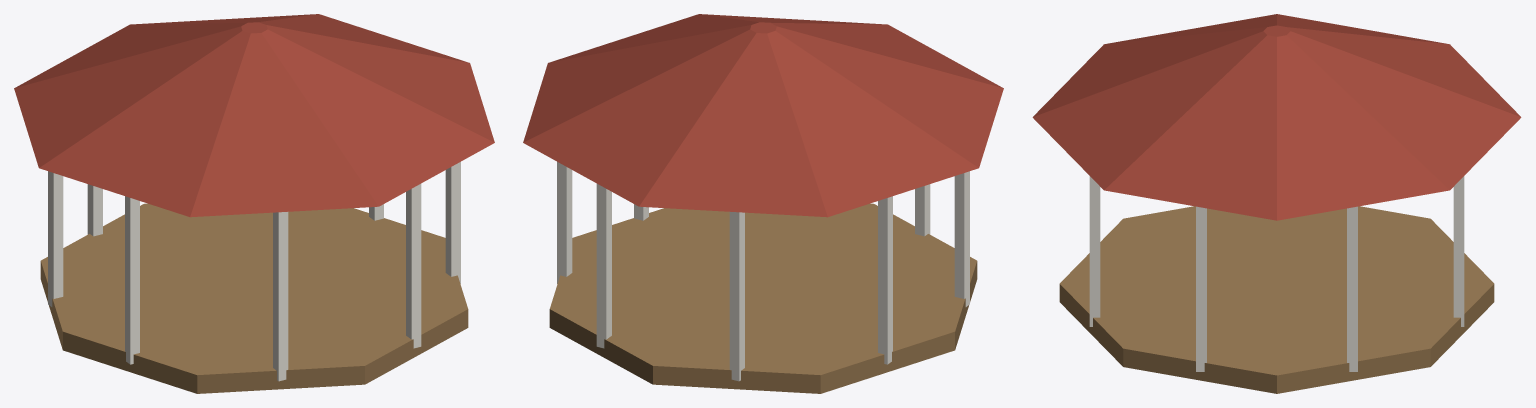
File: gazebo.glb
The picture shows the model from 3 angles, left to right: view 1: azimuth 30°, elevation 25°; view 2: azimuth 150°, elevation 25°; view 3: azimuth 270°, elevation 25°; orthographic projection.
Visible parts, largest first — view 1: gazebo_Body; view 2: gazebo_Body; view 3: gazebo_Body.
Part boxes in pixels (x1,y1,x2,y2): gazebo_Body: [14, 14, 494, 393]; gazebo_Body: [523, 14, 1003, 393]; gazebo_Body: [1032, 14, 1521, 393].
Bounding box in the file's own units: 7.2 × 4.4 × 7.2.
